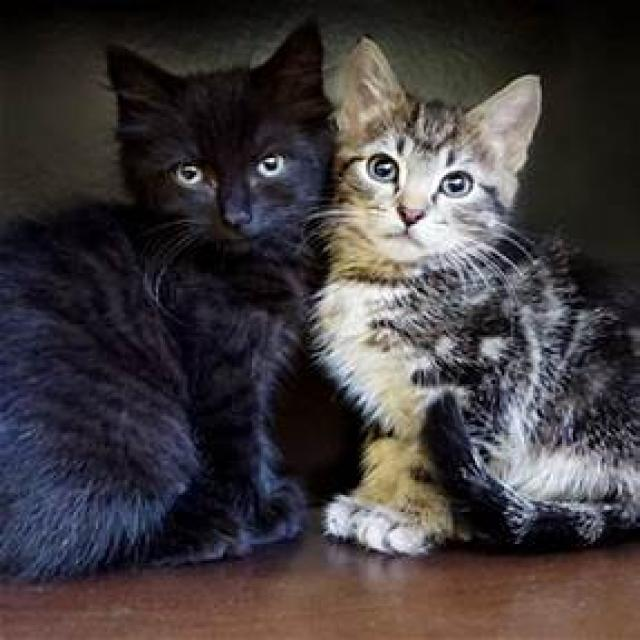KEDI: (4, 11, 324, 572), (326, 22, 640, 571)
